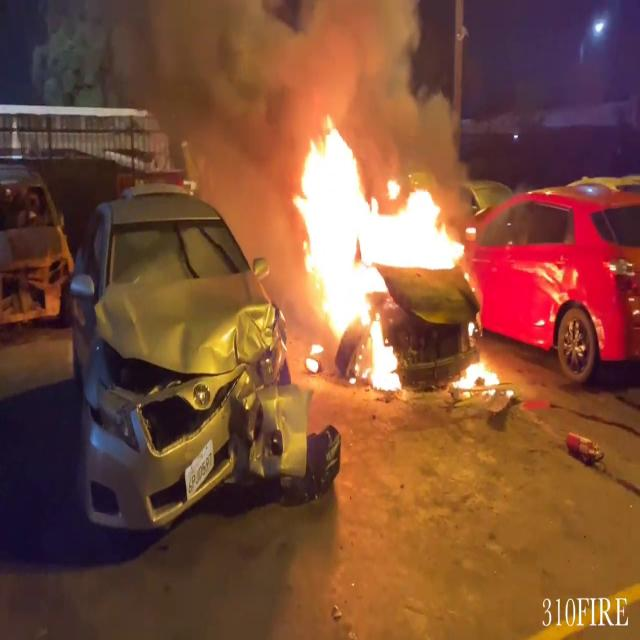Fire: (281, 115, 470, 392), (449, 349, 509, 399)
Smoke: (72, 0, 454, 200)
